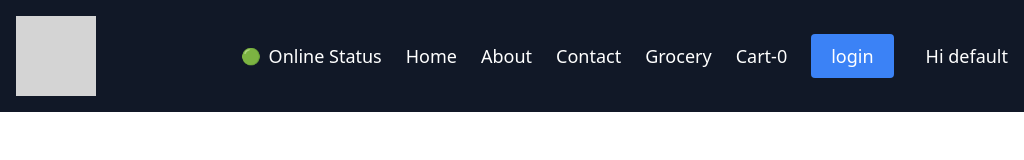
Test: Header Testing › Should change to logout buuton when clicked on login
Click the button "login". click: click(852, 56)
box: [811,34,894,78]
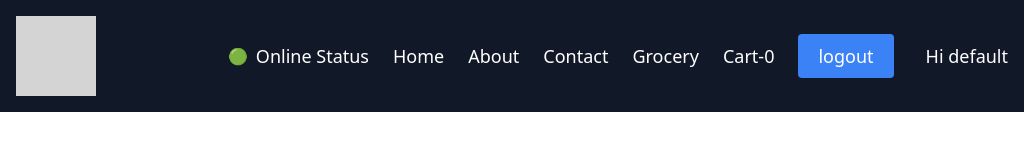
Now the button "logout" is shown, box [798,34,894,78]
